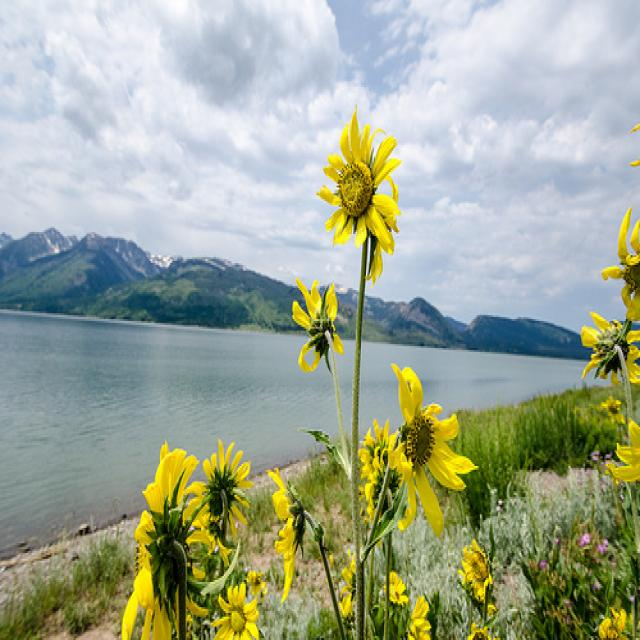sunflower: (125, 443, 205, 640), (383, 358, 474, 528), (324, 122, 402, 266), (288, 272, 345, 368), (268, 464, 303, 594), (579, 311, 640, 379), (605, 207, 640, 313), (212, 582, 266, 640), (604, 415, 640, 480), (205, 437, 248, 482)
